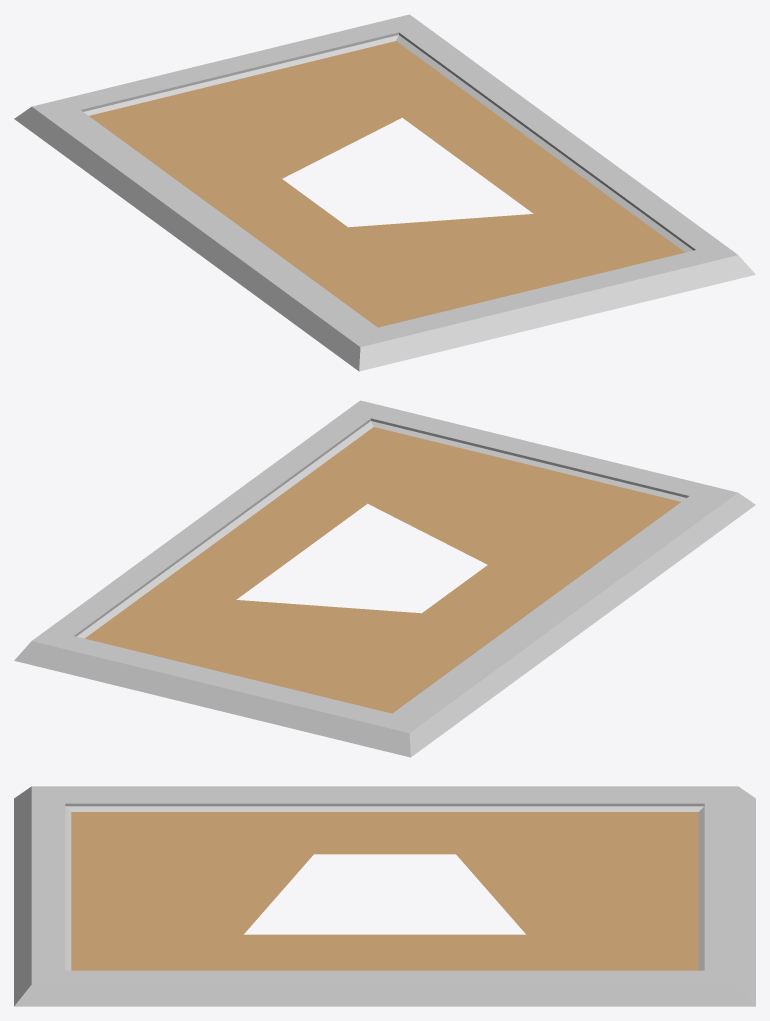
File: Floor.fbx
3 renders of one model, top to bottom at view 1: azimuth 30°, elevation 25°; view 2: azimuth 150°, elevation 25°; view 3: azimuth 270°, elevation 25°, orthographic. The views are drawn at different scales.
Visible parts, largest first — view 1: Plane.007; view 2: Plane.007; view 3: Plane.007.
Part boxes in pixels (box(x1,y1,x2,y2)): Plane.007: box(14, 14, 755, 371); Plane.007: box(14, 400, 755, 757); Plane.007: box(14, 786, 755, 1006).
Size of the model in its own units: 325610 by 12559 by 490563.
